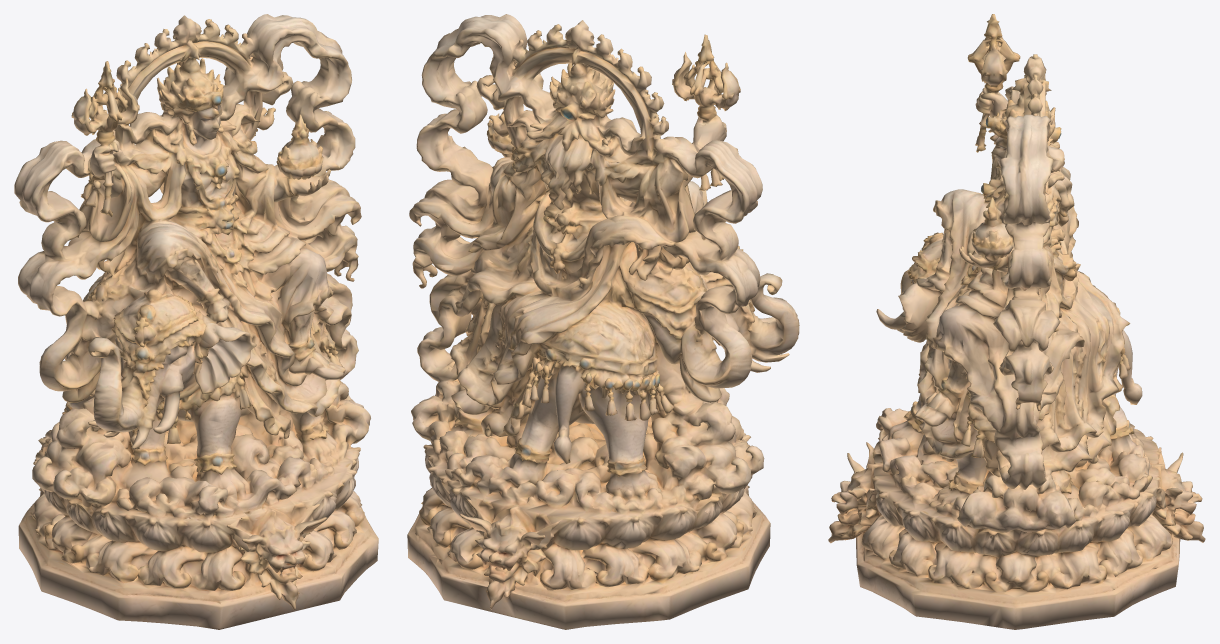
3 views of the same model, side by side, from view 1: azimuth 30°, elevation 25°; view 2: azimuth 150°, elevation 25°; view 3: azimuth 270°, elevation 25° (orthographic). The views are drawn at different scales.
Visible parts, largest first — view 1: owner-collection20-04; view 2: owner-collection20-04; view 3: owner-collection20-04.
Boxes of the visible parts, bbox=[...] form: owner-collection20-04: bbox=[14, 14, 378, 629]; owner-collection20-04: bbox=[407, 14, 799, 629]; owner-collection20-04: bbox=[828, 14, 1205, 629].
Bounding box in the file's own units: 0.657 × 1 × 0.6815.
Materials: 1 (1 with a texture image).
